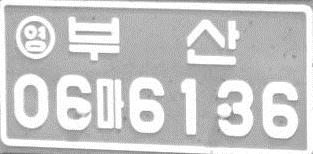0: (12, 72, 49, 130)
1: (170, 77, 209, 135)
3: (215, 78, 255, 137)
6: (260, 79, 299, 140), (127, 75, 166, 134), (55, 74, 91, 131)
마: (95, 75, 125, 130)
부산_D: (67, 16, 240, 66)
영: (13, 13, 58, 62)
